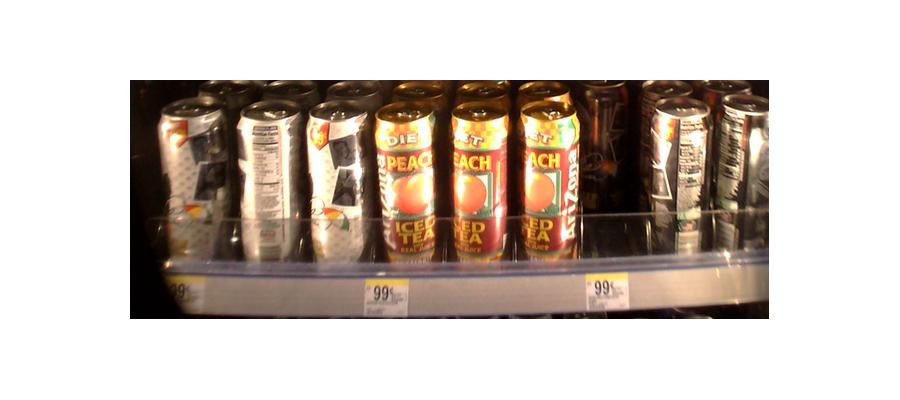bottle: (159, 100, 228, 268), (237, 100, 303, 267), (378, 98, 440, 268), (306, 105, 371, 267), (519, 89, 578, 261), (447, 104, 510, 264), (651, 98, 710, 254), (717, 88, 769, 257), (582, 83, 629, 229)
